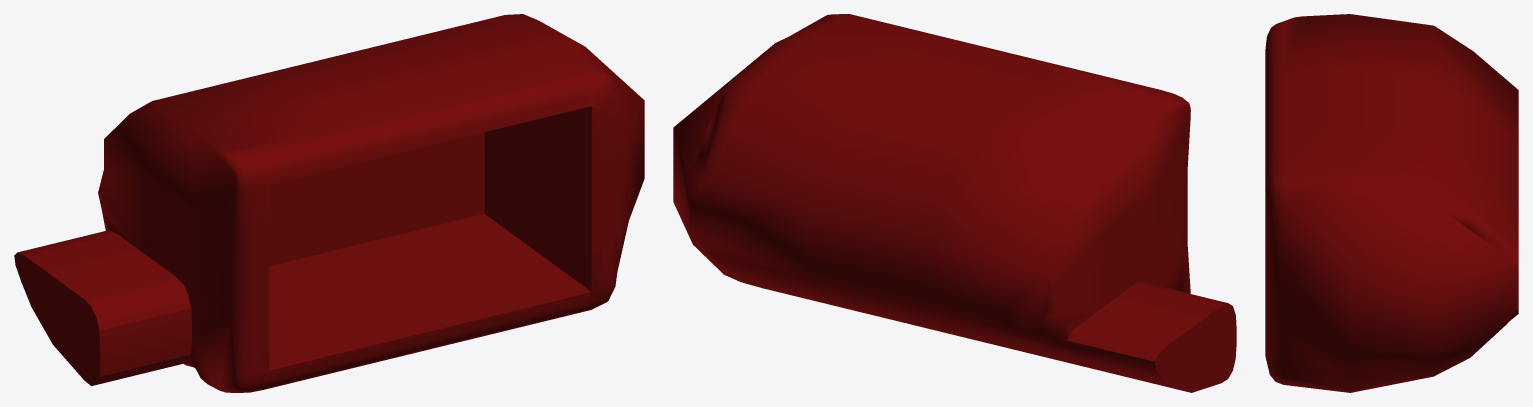
Rendered from right mirror shell.fbx.
3 views of the same model, side by side, from view 1: azimuth 30°, elevation 25°; view 2: azimuth 150°, elevation 25°; view 3: azimuth 270°, elevation 25° (orthographic). The views are drawn at different scales.
Parts seen in each view (by area): view 1: Right side mirror shell; view 2: Right side mirror shell; view 3: Right side mirror shell.
Part boxes in pixels (x1,y1,x2,y2): Right side mirror shell: [14, 14, 644, 392]; Right side mirror shell: [673, 14, 1236, 392]; Right side mirror shell: [1265, 14, 1518, 392].
Size of the model in its own units: 16.08 by 7 by 7.34.
